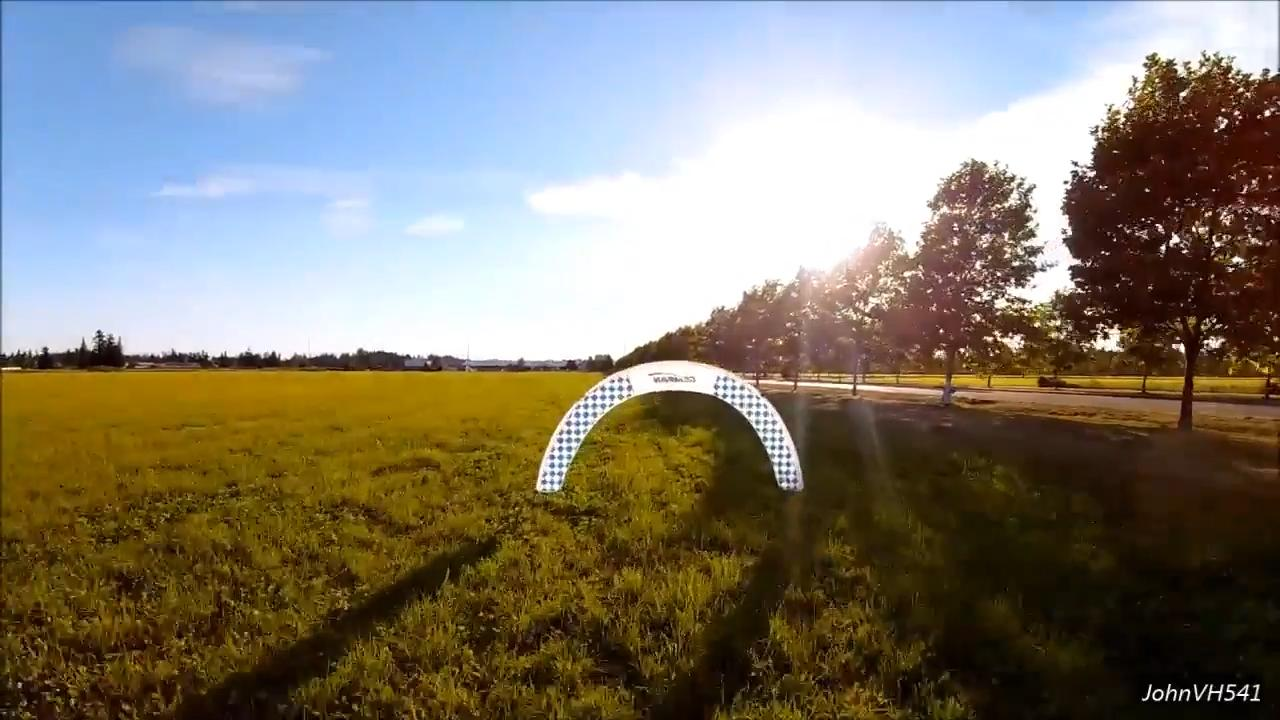gate: (535, 360, 803, 492)
